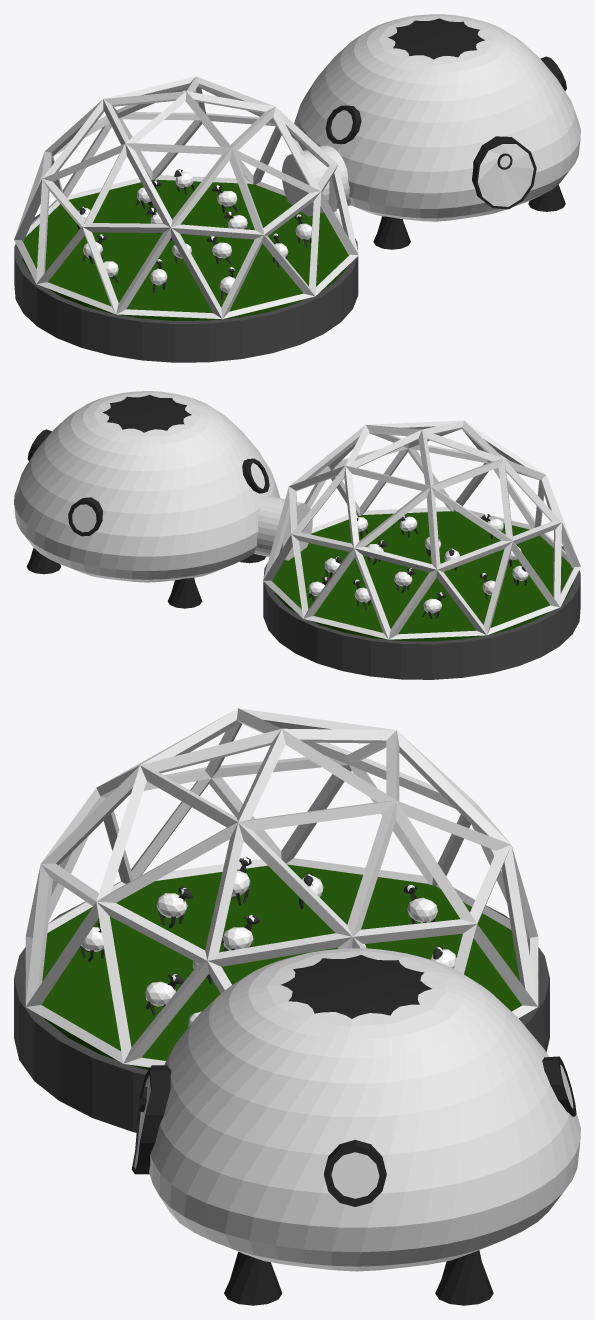
The model's file is MarsAnimalFarm_3.fbx.
3 renders of one model, top to bottom at view 1: azimuth 30°, elevation 25°; view 2: azimuth 150°, elevation 25°; view 3: azimuth 270°, elevation 25°, orthographic. The views are drawn at different scales.
Visible parts, largest first — view 1: Cylinder.014; view 2: Cylinder.014; view 3: Cylinder.014.
Part boxes in pixels (bbox=[...]): Cylinder.014: bbox=[14, 14, 580, 362]; Cylinder.014: bbox=[14, 391, 580, 679]; Cylinder.014: bbox=[14, 708, 580, 1305].
Size of the model in its own units: 1166 by 403 by 670.
